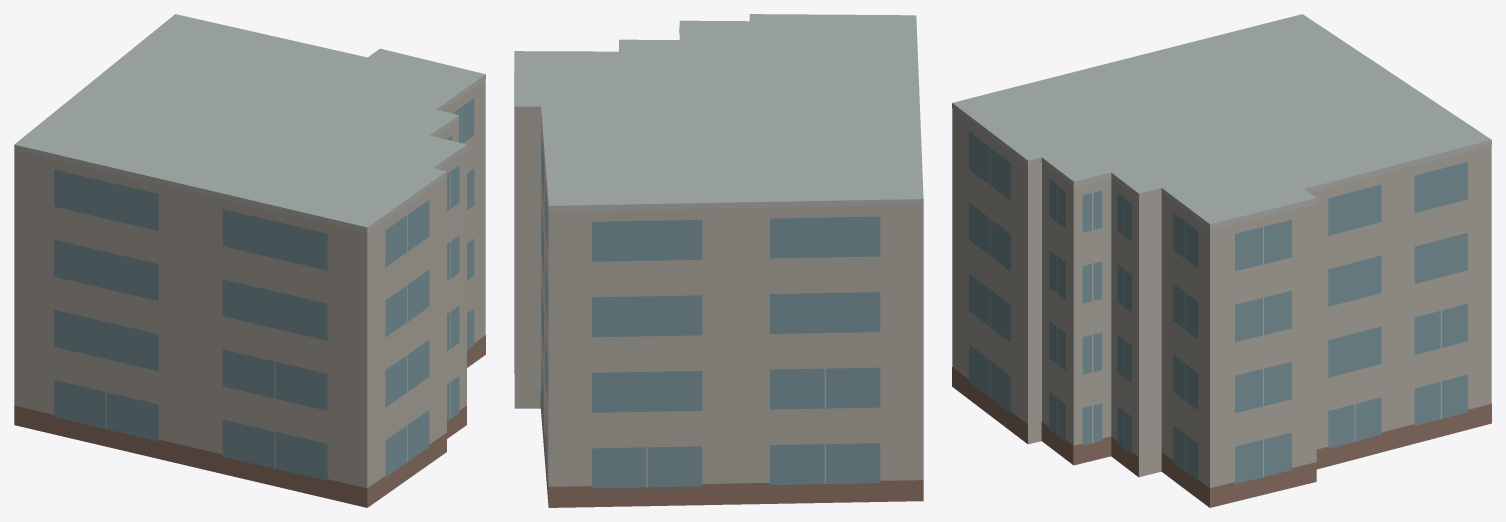
File: survey-upis-32495071.glb
3 renders of one model, left to right at view 1: azimuth 30°, elevation 25°; view 2: azimuth 150°, elevation 25°; view 3: azimuth 270°, elevation 25°, orthographic. The views are drawn at different scales.
Visible parts, largest first — view 1: survey-upis-32495071.tmp; view 2: survey-upis-32495071.tmp; view 3: survey-upis-32495071.tmp.
Part boxes in pixels (left/top/right/bottom): survey-upis-32495071.tmp: left=14, top=14, right=485, bottom=507; survey-upis-32495071.tmp: left=514, top=14, right=923, bottom=507; survey-upis-32495071.tmp: left=952, top=14, right=1491, bottom=507.
Size of the model in its own units: 19.87 by 12.5 by 21.55.
